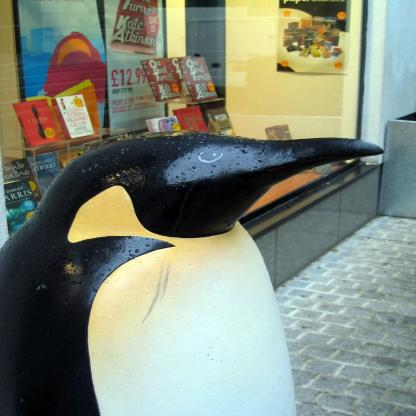book: (0, 103, 243, 242), (13, 97, 58, 147), (145, 59, 190, 105), (180, 53, 223, 99), (50, 95, 94, 138)
